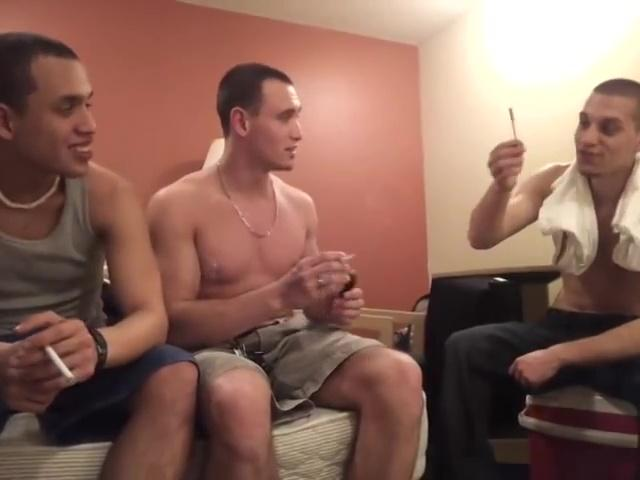cigarette: (40, 342, 76, 383), (334, 251, 361, 262)
